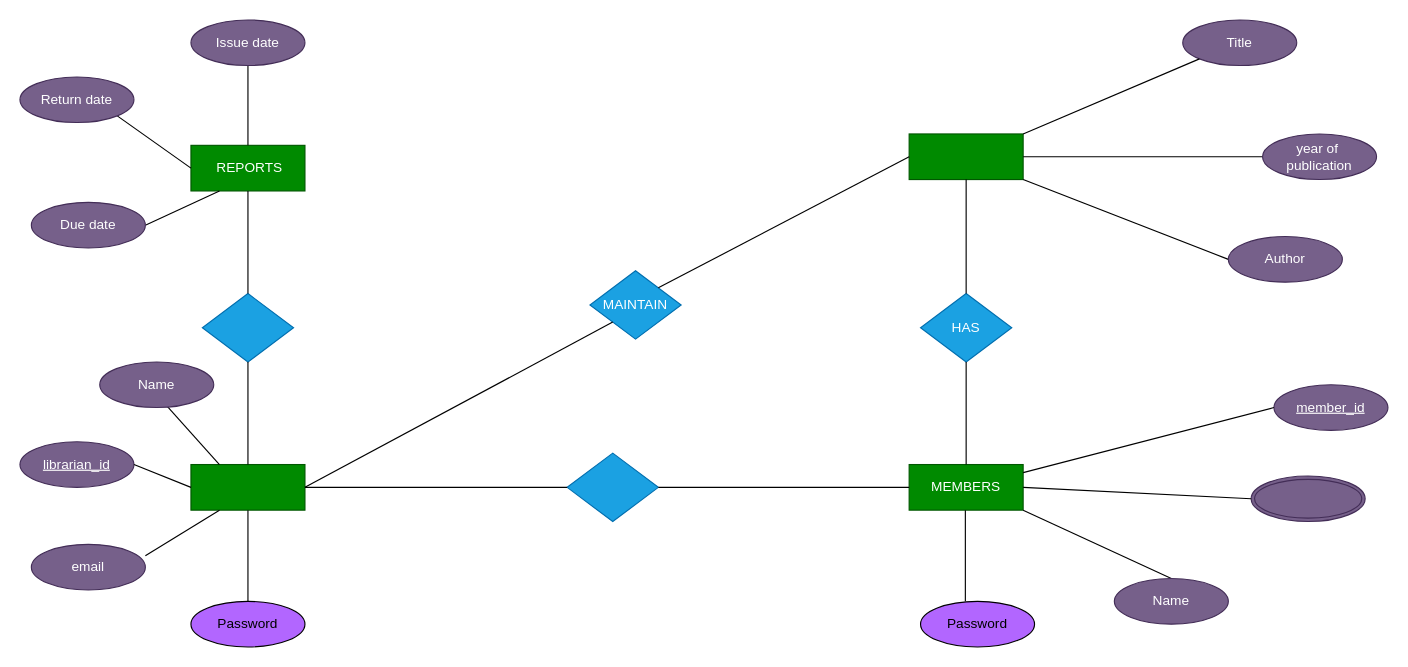
This 1408x667 diagram has some shape labels left out. The centre of each missing label's shape, as x and y in pixels:
BOOKS: point (965, 156)
KEEP TRACKS: point (612, 487)
LIBRARIAN: point (247, 486)
MANAGES: point (247, 327)
Phone no.: point (1307, 498)
